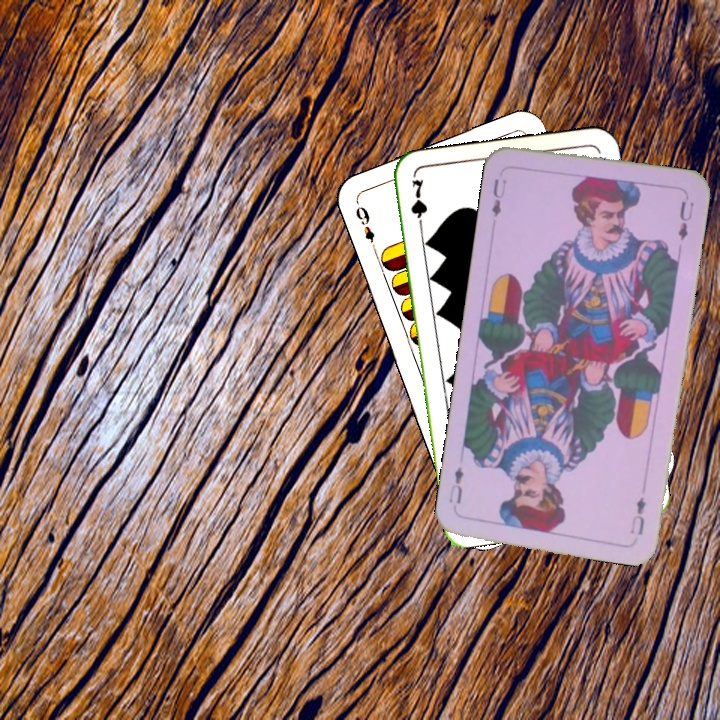E9: (351, 202, 379, 255)
EU: (627, 493, 649, 537), (488, 175, 509, 220)
G7: (407, 175, 430, 235)
